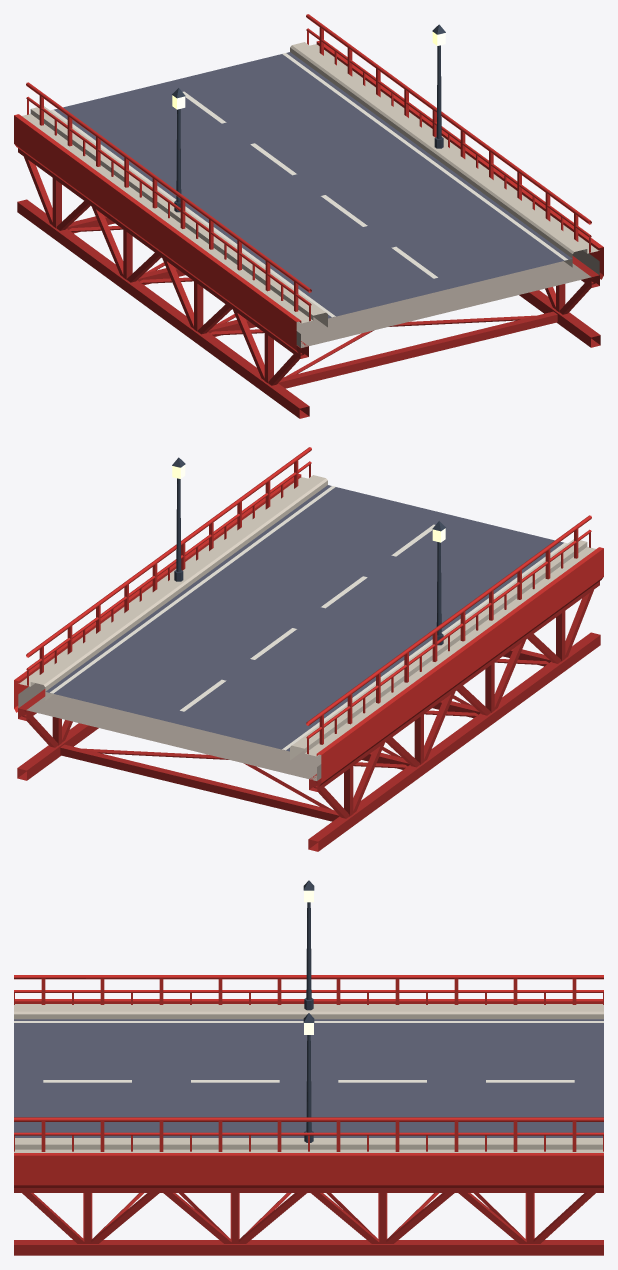
File: bridge_segment.glb
3 views of the same model, one above another, from view 1: azimuth 30°, elevation 25°; view 2: azimuth 150°, elevation 25°; view 3: azimuth 270°, elevation 25° (orthographic). The views are drawn at different scales.
Visible parts, largest first — view 1: bridge_segment; view 2: bridge_segment; view 3: bridge_segment.
Boxes of the visible parts, x1,y1,x2,y2 form: bridge_segment: (14, 14, 603, 418); bridge_segment: (14, 447, 603, 851); bridge_segment: (14, 880, 603, 1255).
Size of the model in its own units: 12.56 by 8.7 by 20.
